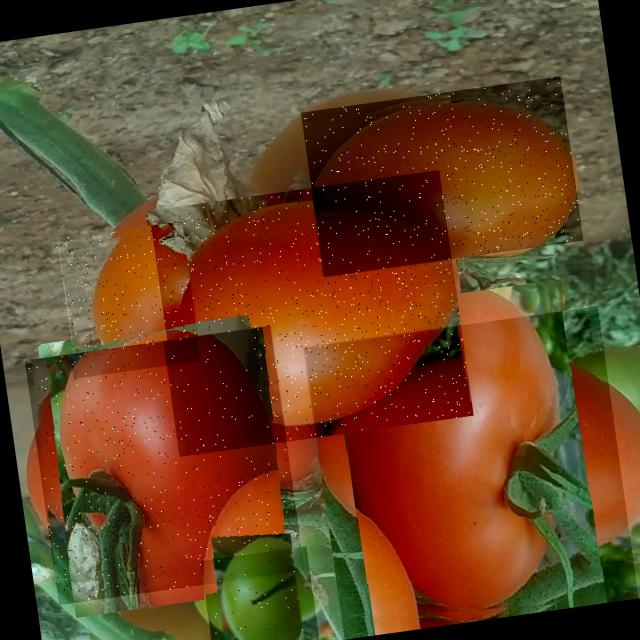Ripe Tomato: (304, 306, 639, 640), (145, 170, 474, 457), (24, 326, 304, 605), (301, 76, 584, 277), (55, 222, 201, 378)
Unripe Tomato: (200, 546, 320, 640)
